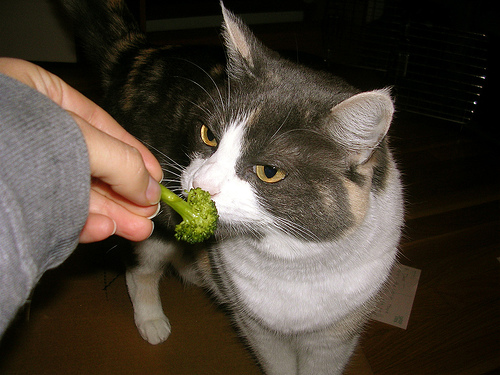broccoli: (157, 182, 220, 245)
